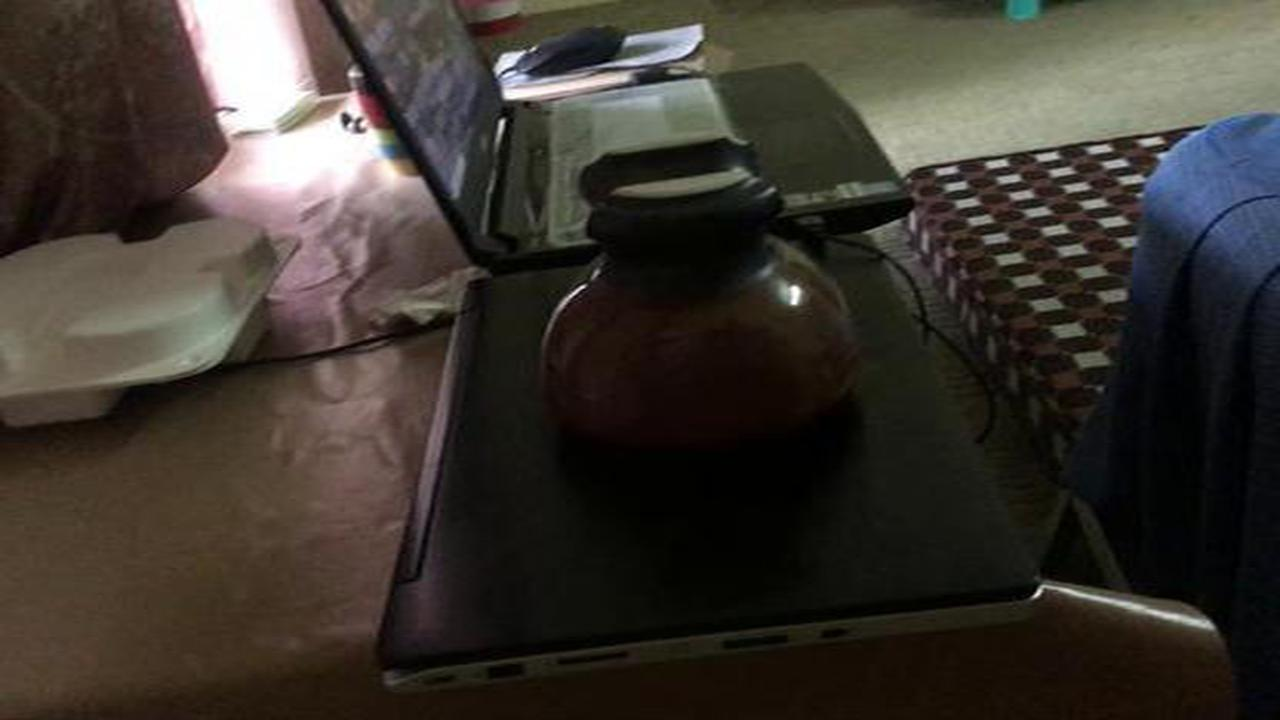insulator_pin: (514, 136, 884, 490)
